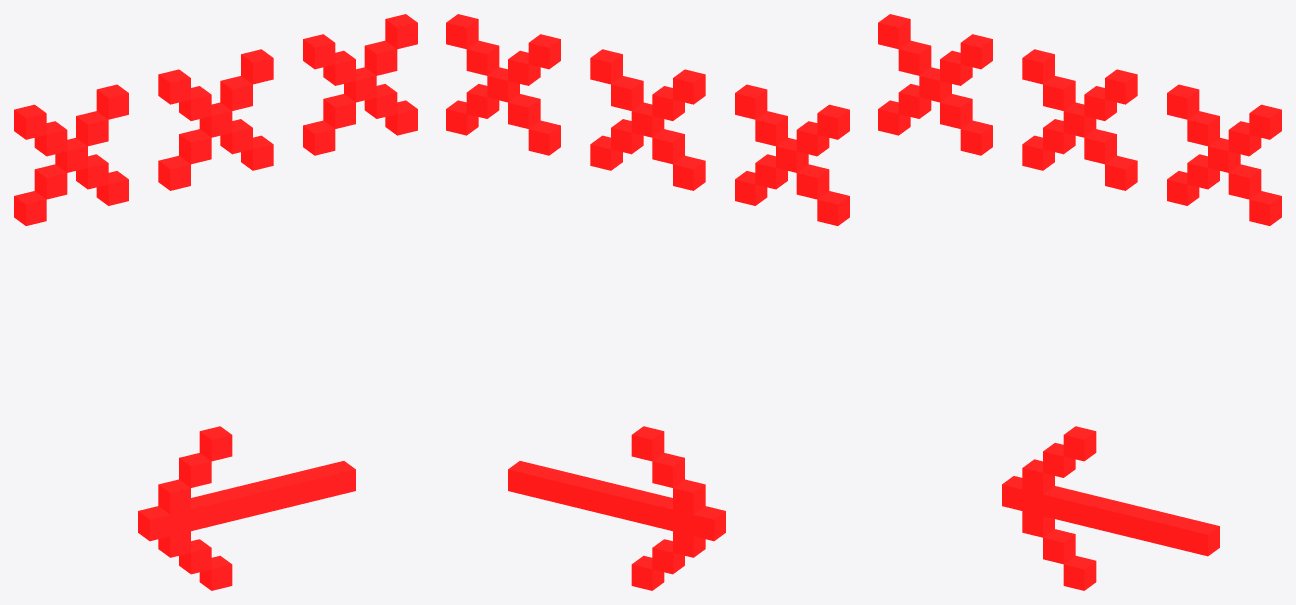
The model's file is neon_xxx.dae.
3 views of the same model, side by side, from view 1: azimuth 30°, elevation 25°; view 2: azimuth 150°, elevation 25°; view 3: azimuth 330°, elevation 25° (orthographic).
Visible parts, largest first — view 1: Content; view 2: Content; view 3: Content.
Boxes of the visible parts, box(x1,y1,x2,y2) form: Content: box(14, 14, 417, 590); Content: box(446, 14, 849, 590); Content: box(878, 14, 1281, 590).
Size of the model in its own units: 19 by 24 by 1.
Materials: 1 (1 with a texture image).
